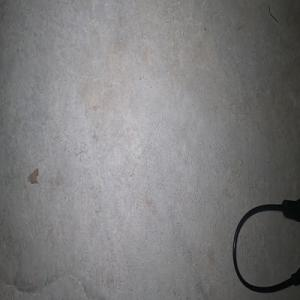Wire: (232, 197, 300, 293)
